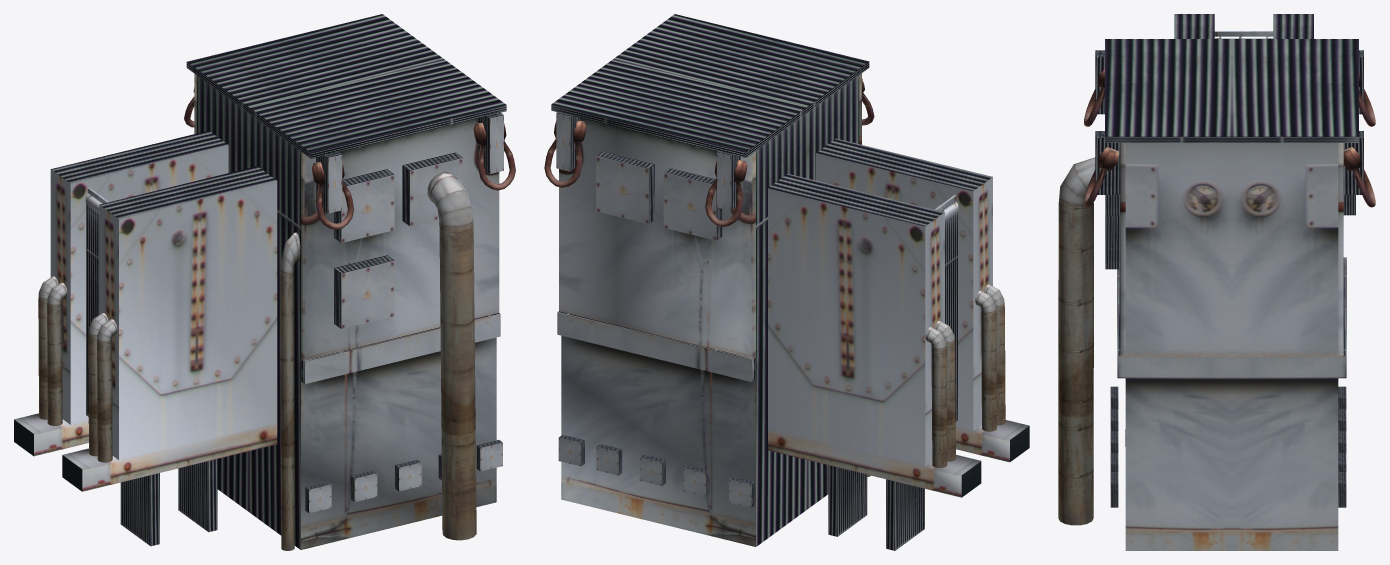
Rendered from industrial18.obj.
The picture shows the model from 3 angles, left to right: view 1: azimuth 30°, elevation 25°; view 2: azimuth 150°, elevation 25°; view 3: azimuth 270°, elevation 25°; orthographic projection. The views are drawn at different scales.
Parts seen in each view (by area): view 1: industrial18; view 2: industrial18; view 3: industrial18.
Part boxes in pixels (x1,y1,x2,y2): industrial18: (14,14,515,550); industrial18: (544,14,1029,550); industrial18: (1058,14,1375,550).
Bounding box in the file's own units: 97.52 × 96.09 × 66.6.
Materials: 1 (1 with a texture image).
